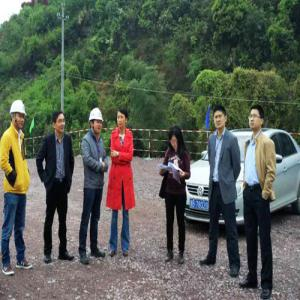none: (249, 104, 265, 133), (52, 109, 66, 136), (169, 126, 183, 151), (213, 106, 227, 131), (117, 107, 129, 131)
white: (10, 98, 27, 131), (90, 107, 104, 134)
